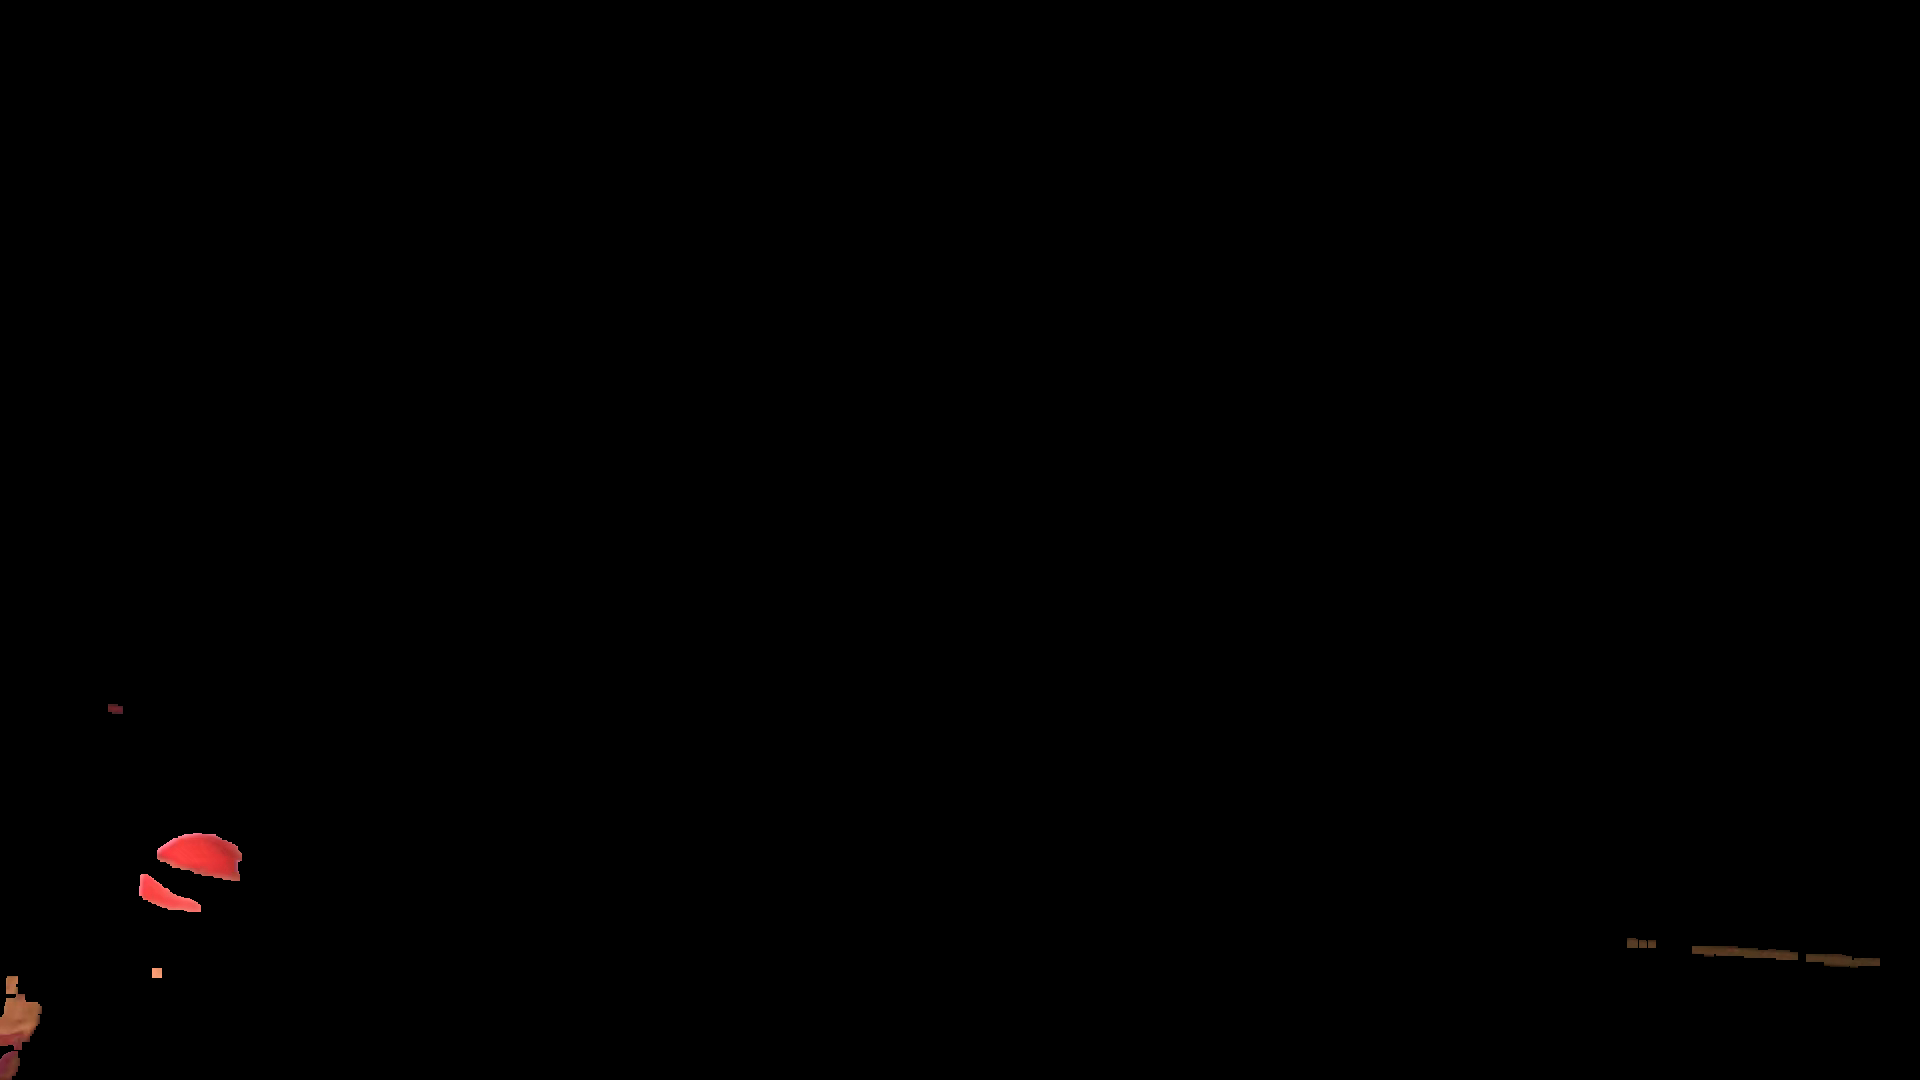Ball: (137, 835, 251, 944)
